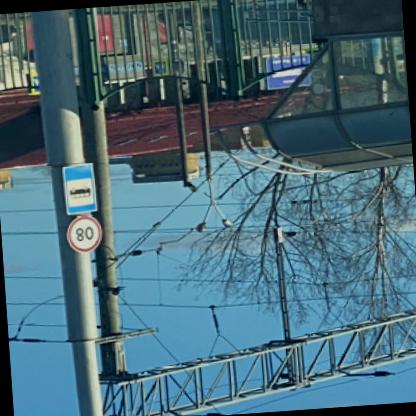speedlimit: (64, 216, 101, 256)
